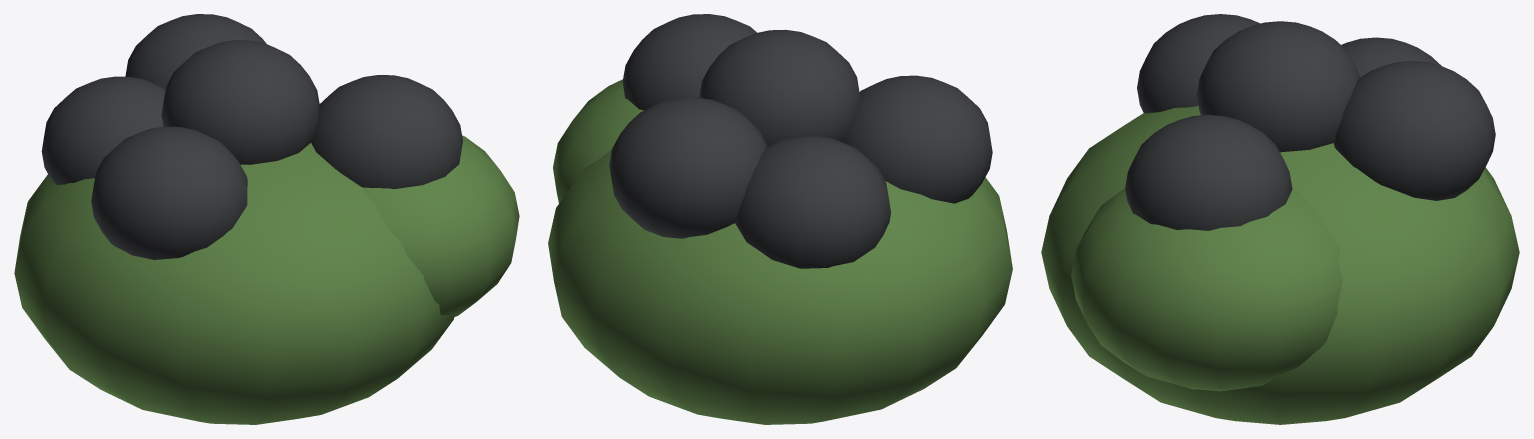
3 renders of one model, left to right at view 1: azimuth 30°, elevation 25°; view 2: azimuth 150°, elevation 25°; view 3: azimuth 270°, elevation 25°, orthographic. The views are drawn at different scales.
Parts seen in each view (by area): view 1: sphere-leaf (×2), sphere-primary (×5); view 2: sphere-leaf (×2), sphere-primary (×5); view 3: sphere-leaf (×2), sphere-primary (×5).
Boxes of the visible parts, bbox=[...] form: sphere-leaf (×2): bbox=[14, 135, 519, 424]; sphere-primary (×5): bbox=[41, 14, 462, 259]; sphere-leaf (×2): bbox=[548, 79, 1012, 424]; sphere-primary (×5): bbox=[609, 14, 992, 268]; sphere-leaf (×2): bbox=[1041, 106, 1519, 424]; sphere-primary (×5): bbox=[1125, 14, 1495, 230].
Size of the model in its own units: 0.87 by 0.67 by 0.8.
